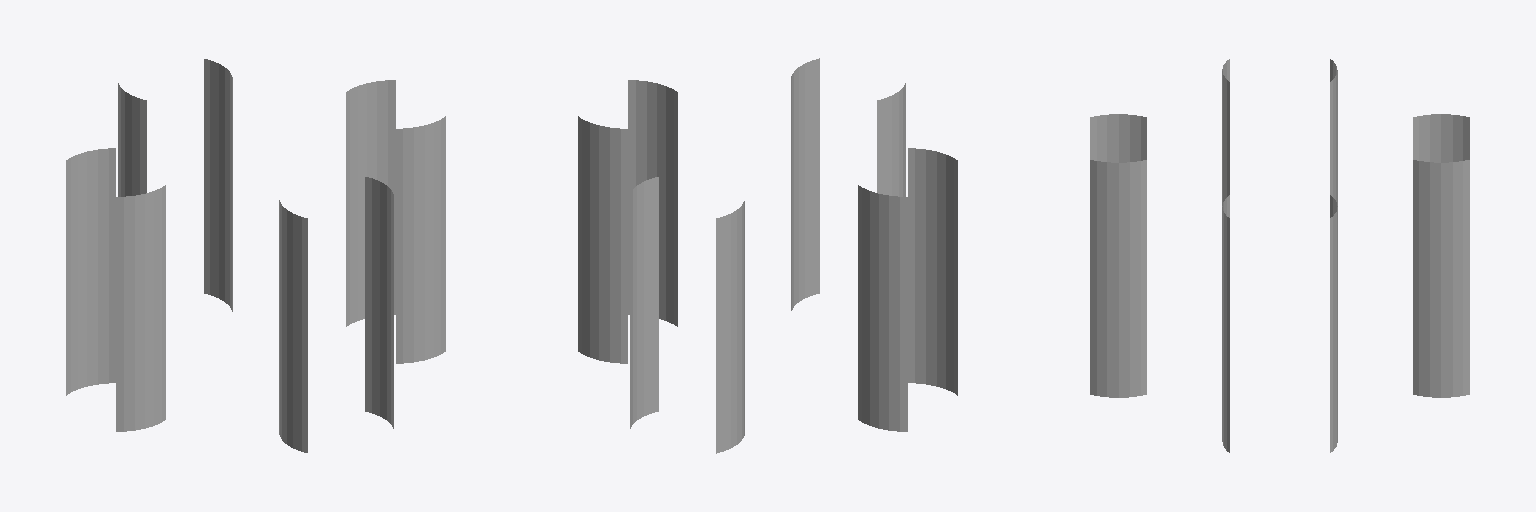
The model's file is solarCollectionGlassPanes.obj.
3 renders of one model, left to right at view 1: azimuth 30°, elevation 25°; view 2: azimuth 150°, elevation 25°; view 3: azimuth 270°, elevation 25°, orthographic.
Visible parts, largest first — view 1: Cylinder.007; view 2: Cylinder.007; view 3: Cylinder.007.
Boxes of the visible parts, x1=… form: Cylinder.007: x1=66, y1=59, x2=445, y2=452; Cylinder.007: x1=578, y1=58, x2=957, y2=453; Cylinder.007: x1=1090, y1=59, x2=1469, y2=452.
Bounding box in the file's own units: 0.825 × 0.5625 × 0.825.